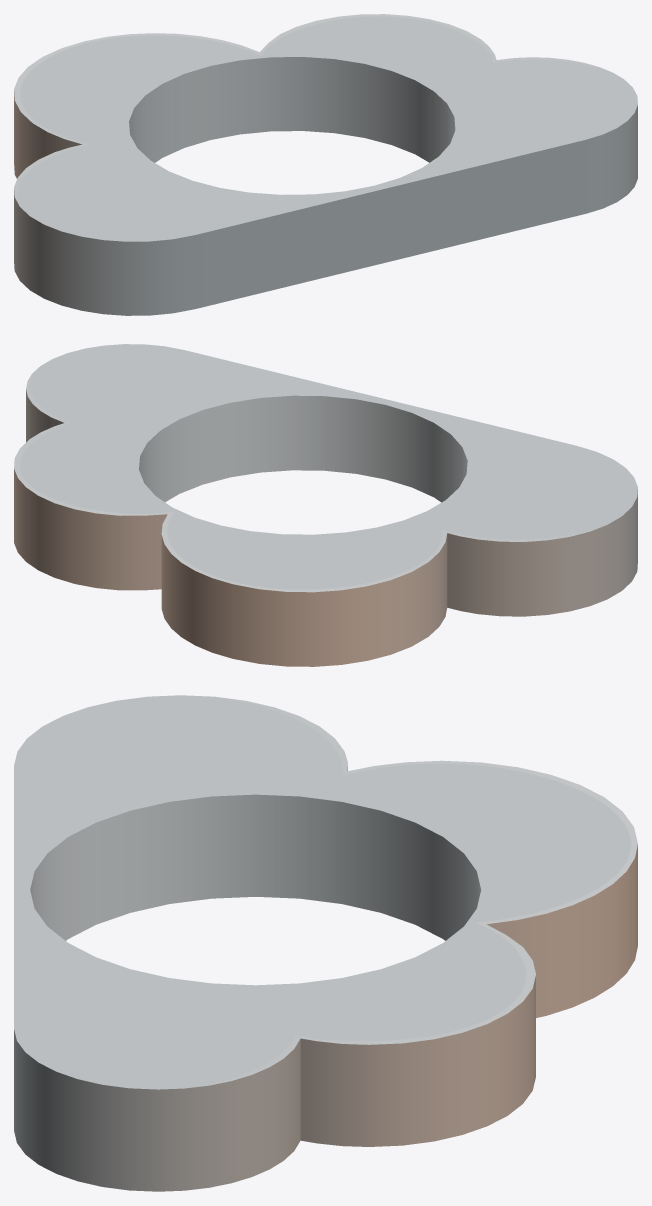
The model's file is Cloud.FBX.
3 views of the same model, one above another, from view 1: azimuth 30°, elevation 25°; view 2: azimuth 150°, elevation 25°; view 3: azimuth 270°, elevation 25° (orthographic). The views are drawn at different scales.
Parts seen in each view (by area): view 1: Cloud; view 2: Cloud; view 3: Cloud.
Part boxes in pixels (x1,y1,x2,y2): Cloud: (14, 14, 637, 315); Cloud: (14, 344, 637, 666); Cloud: (14, 695, 637, 1191).
Size of the model in its own units: 57.92 by 7 by 38.74.
1 material, 1 textured.
